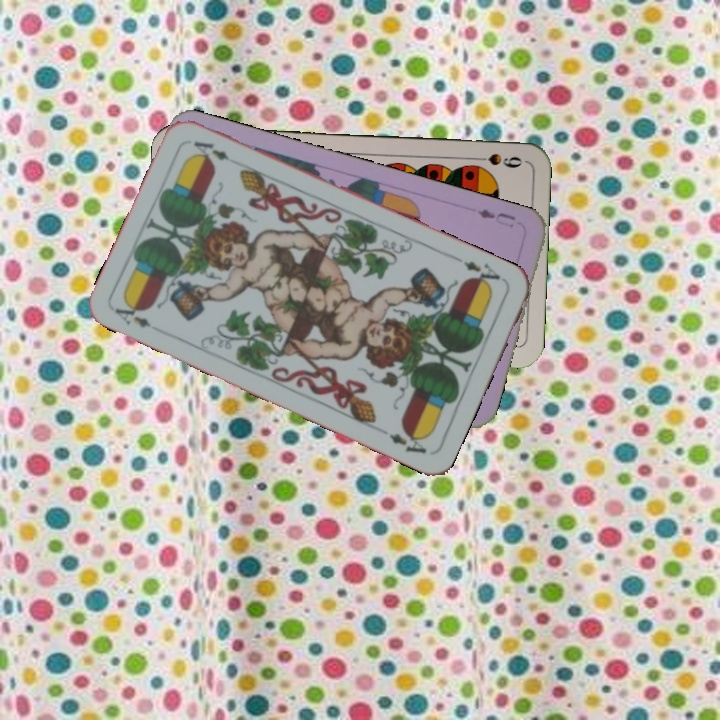EA: (460, 256, 508, 291), (110, 297, 154, 330)
EU: (473, 205, 519, 231)
S9: (466, 149, 524, 170)
